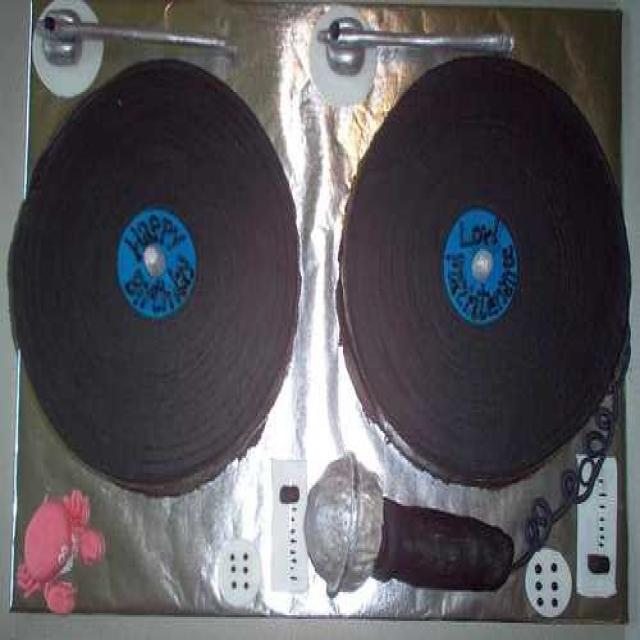microphone: (308, 456, 511, 598)
